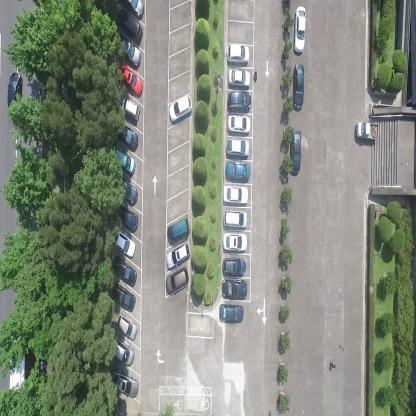car: (117, 8, 143, 42), (119, 62, 144, 96), (112, 252, 137, 286), (111, 368, 139, 397), (118, 35, 142, 68), (7, 68, 22, 119), (292, 5, 307, 55), (168, 93, 192, 124), (166, 240, 190, 270), (111, 282, 136, 310), (165, 265, 189, 294), (116, 175, 138, 206), (167, 216, 190, 245), (112, 338, 134, 368), (116, 123, 139, 151), (114, 228, 136, 257), (116, 313, 138, 341), (113, 147, 135, 174), (117, 204, 138, 232), (292, 62, 304, 110), (224, 160, 250, 182), (221, 278, 248, 299), (289, 128, 301, 175), (355, 119, 379, 142), (223, 209, 248, 231), (223, 185, 249, 206), (119, 95, 140, 121), (222, 232, 248, 252), (219, 303, 245, 323), (226, 44, 249, 66), (228, 90, 251, 112), (221, 257, 246, 277), (228, 115, 252, 135), (226, 136, 249, 156), (228, 68, 250, 88), (125, 0, 144, 20)
